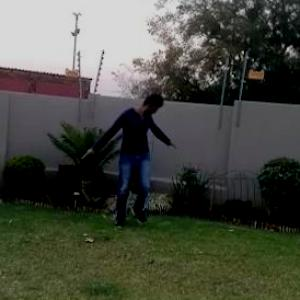land: (86, 78, 202, 244)
